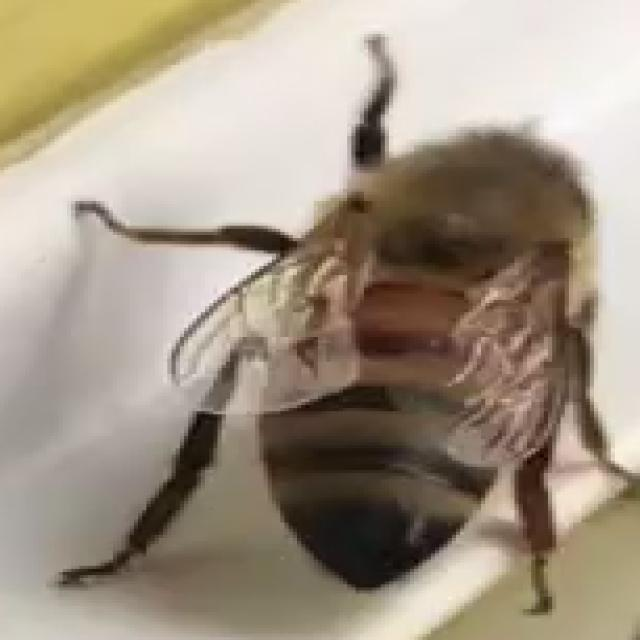honeybee: (52, 75, 608, 620)
